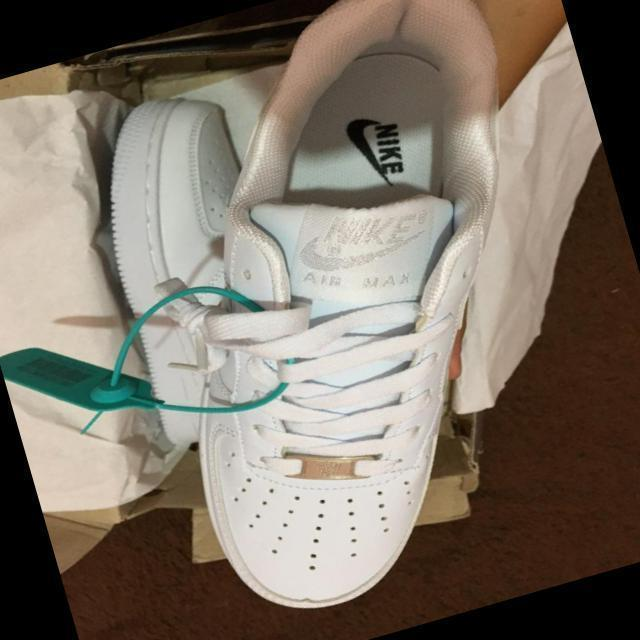nike fake air force: (50, 0, 640, 640), (63, 80, 320, 460)
